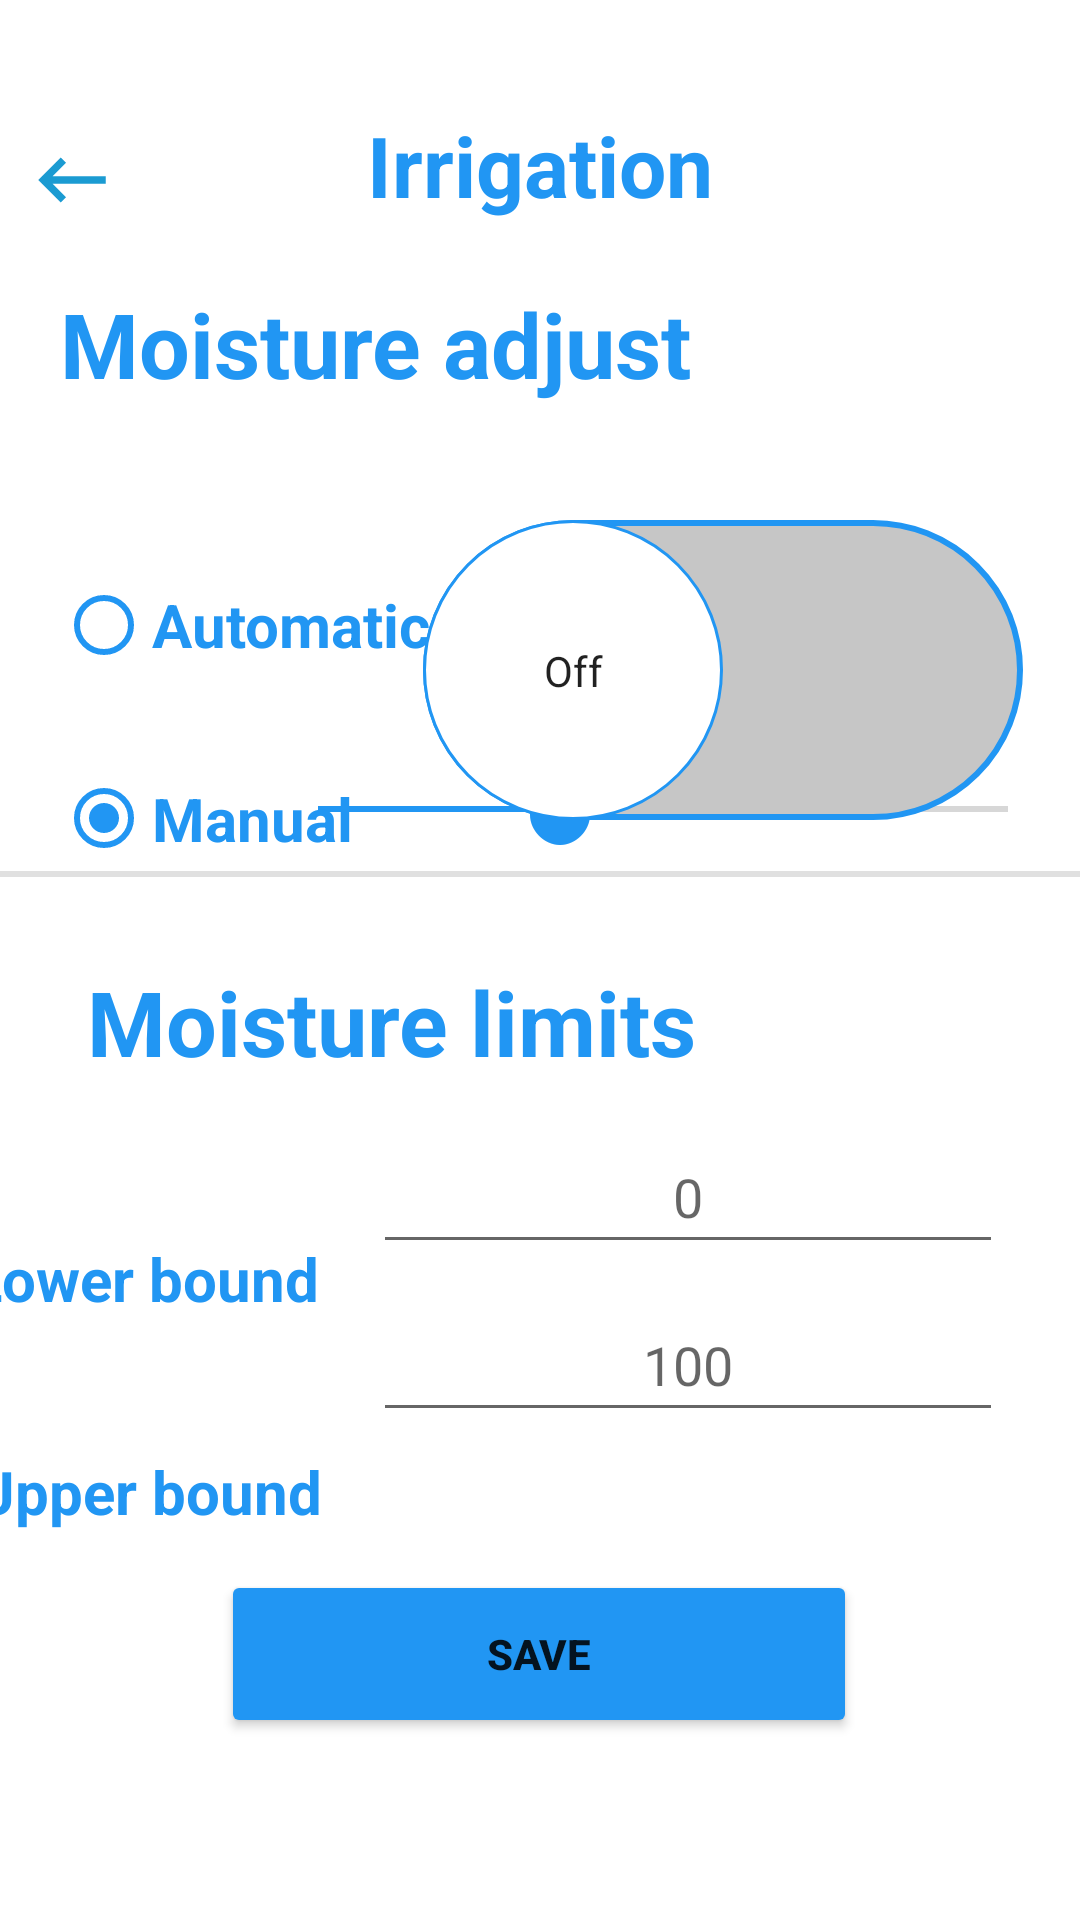

Icons on this 1080 × 1920 Android screen, each with its box as (x1, y1, x2, y2):
keyboard backspace: (38, 157, 106, 203)
